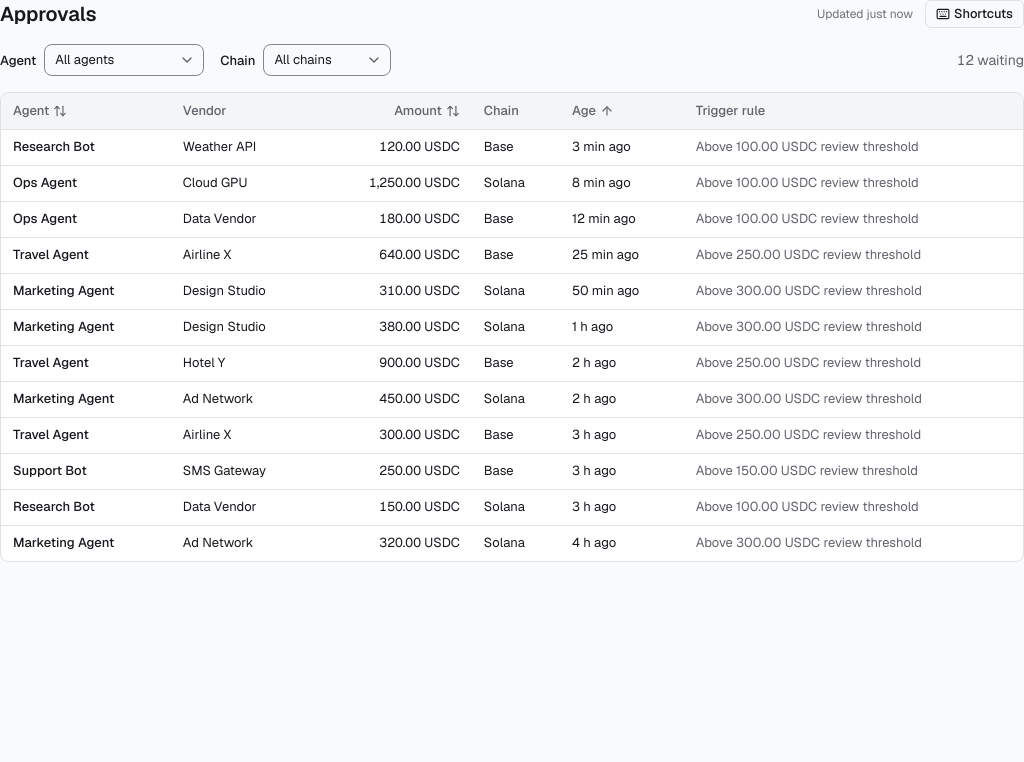
Scenario: ApprovalQueue: side panel › explains the request in plain language
Click the row "Cloud GPU" at (512, 183), box [1,165,1023,201]
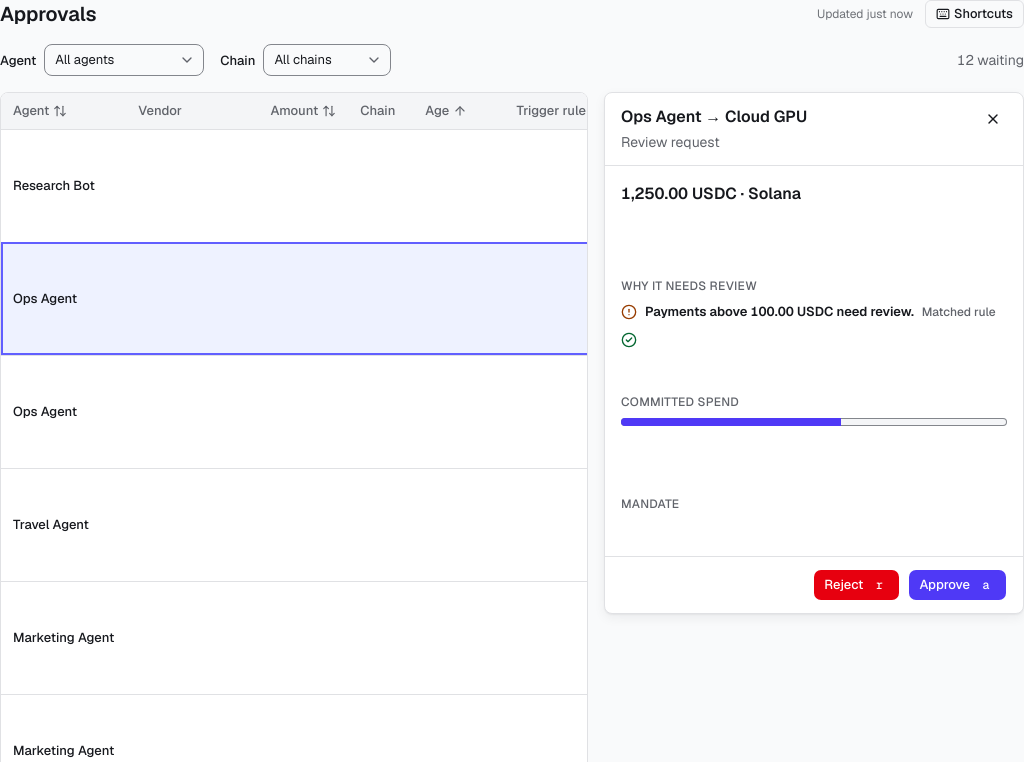
Now the heading "Ops Agent → Cloud GPU" is shown, box [621,106,807,127]
Now the text "Payments above 100.00 USDC need review.Matched rule" is shown, box [645,302,996,322]
